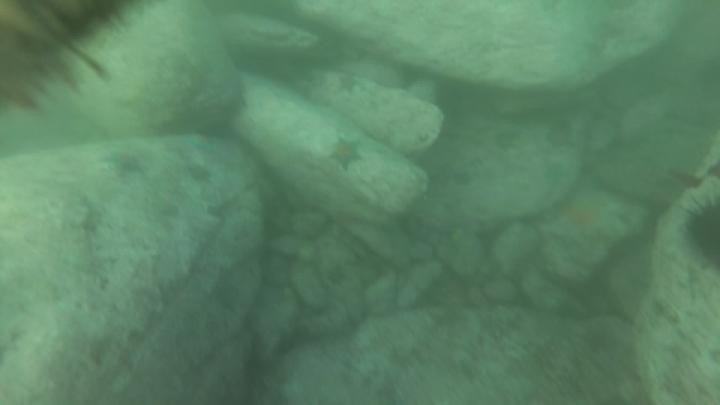echinus: (680, 193, 720, 272)
starfish: (545, 187, 626, 251), (98, 146, 151, 180), (325, 134, 366, 173), (542, 121, 578, 153), (333, 70, 362, 97)
